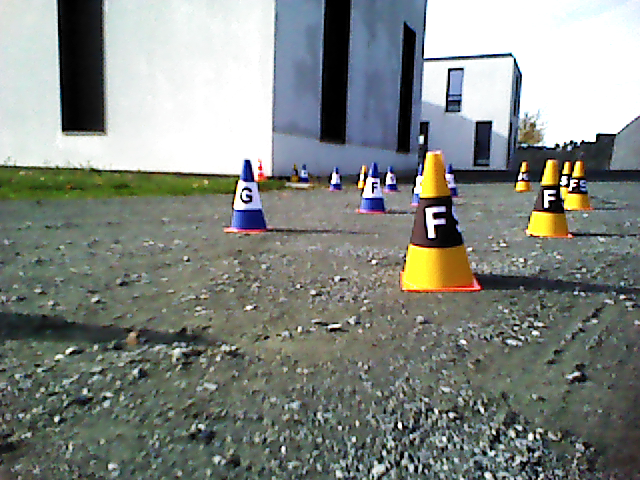bluecone: (231, 161, 263, 229), (361, 164, 386, 210), (448, 164, 459, 197), (387, 165, 400, 191)
yellowcone: (403, 151, 470, 289), (529, 161, 567, 235), (566, 161, 591, 208), (516, 160, 531, 190)
